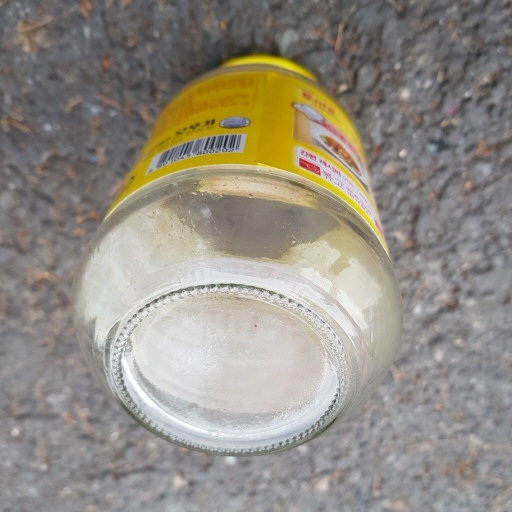Glass_5: (69, 55, 411, 459)
